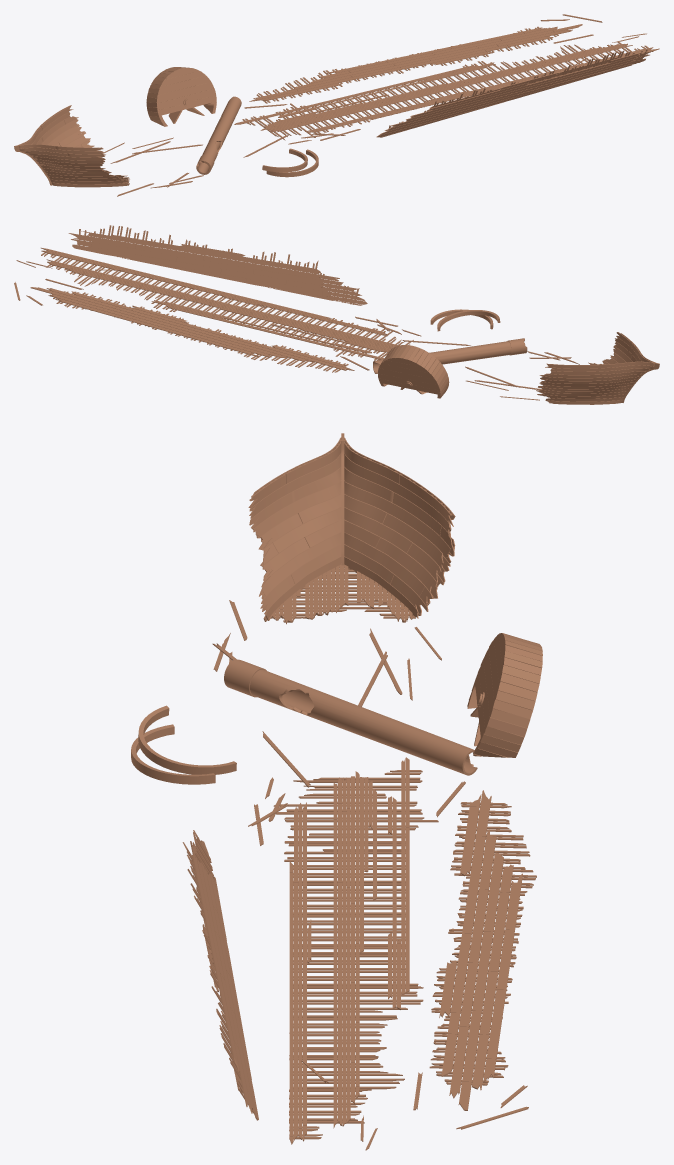
Rendered from PSParadise00.fbx.
3 renders of one model, top to bottom at view 1: azimuth 30°, elevation 25°; view 2: azimuth 150°, elevation 25°; view 3: azimuth 270°, elevation 25°, orthographic. The views are drawn at different scales.
Parts seen in each view (by area): view 1: paradise; view 2: paradise; view 3: paradise.
Part boxes in pixels (left/top/right/bottom): paradise: left=14, top=14, right=659, bottom=196; paradise: left=14, top=225, right=659, bottom=404; paradise: left=131, top=433, right=542, bottom=1150.
Bounding box in the file's own units: 62.91 × 4.55 × 17.6.
